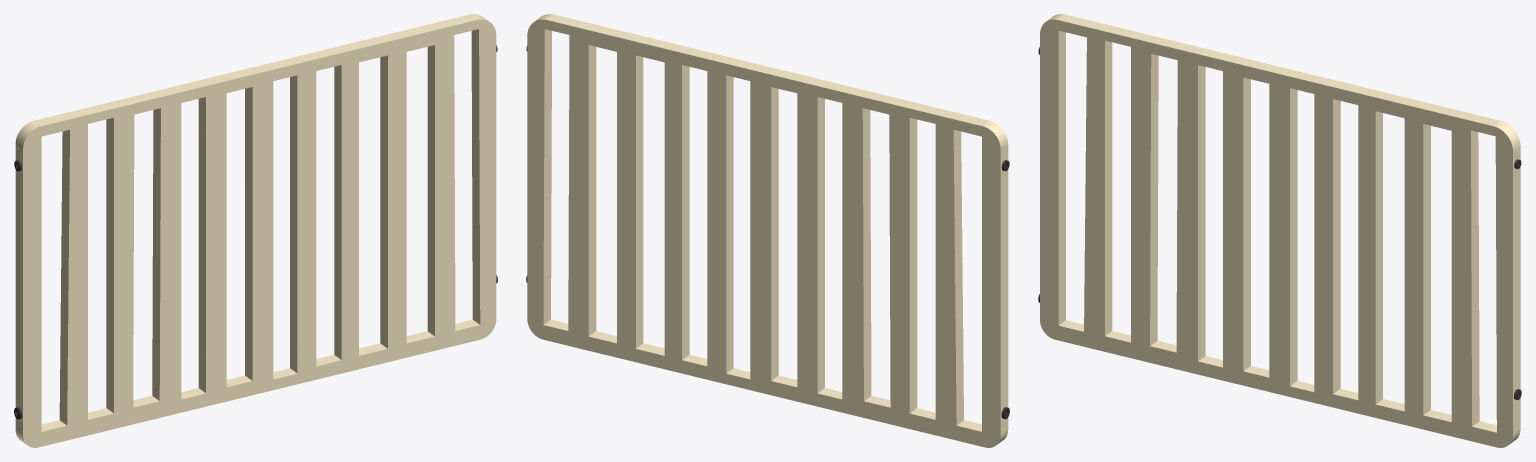
3 renders of one model, left to right at view 1: azimuth 30°, elevation 25°; view 2: azimuth 150°, elevation 25°; view 3: azimuth 330°, elevation 25°, orthographic.
Visible parts, largest first — view 1: Layer0_001; view 2: Layer0_001; view 3: Layer0_001.
Boxes of the visible parts, x1,y1,x2,y2 form: Layer0_001: (14,14,497,447); Layer0_001: (526,14,1009,447); Layer0_001: (1038,14,1521,447).
Bounding box in the file's own units: 50.62 × 32.44 × 1.38.
